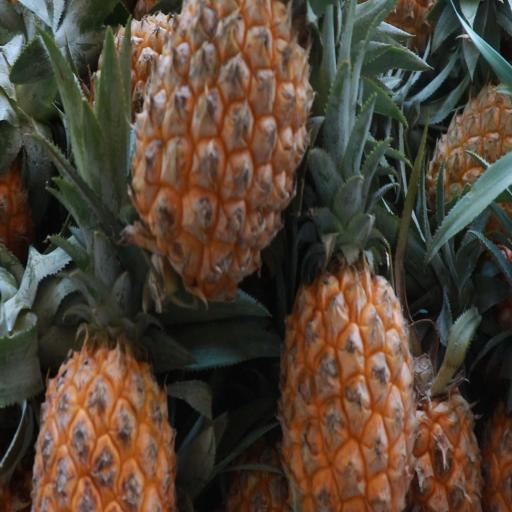Pineapple - v8 v1: (123, 0, 319, 310), (272, 151, 420, 512), (26, 275, 183, 512), (406, 336, 487, 512)
